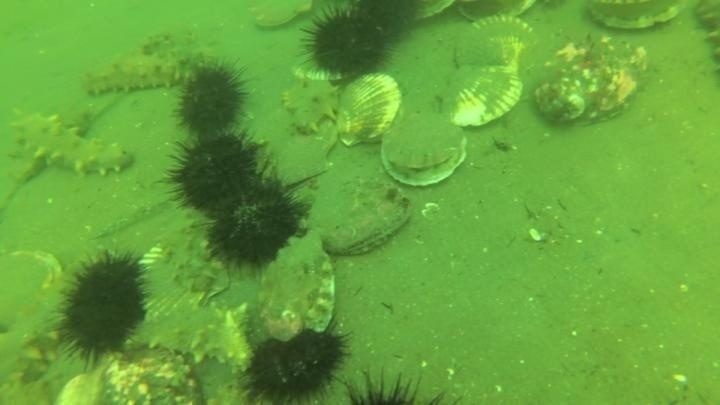echinus: (53, 248, 154, 366), (203, 170, 310, 276), (163, 128, 267, 218), (240, 323, 353, 404), (298, 4, 394, 82), (172, 58, 253, 139), (331, 365, 441, 405), (351, 1, 425, 40)
holothurian: (126, 210, 245, 359), (1, 246, 72, 396), (122, 299, 256, 374), (6, 107, 136, 183), (155, 207, 225, 297), (81, 51, 202, 100), (1, 319, 61, 404), (280, 72, 344, 138), (139, 26, 221, 66), (691, 1, 720, 79)
scallop: (377, 109, 470, 191), (434, 61, 524, 132), (332, 71, 406, 150), (454, 13, 541, 75), (1, 246, 63, 325), (582, 1, 685, 35), (247, 1, 316, 33), (457, 1, 536, 19)
